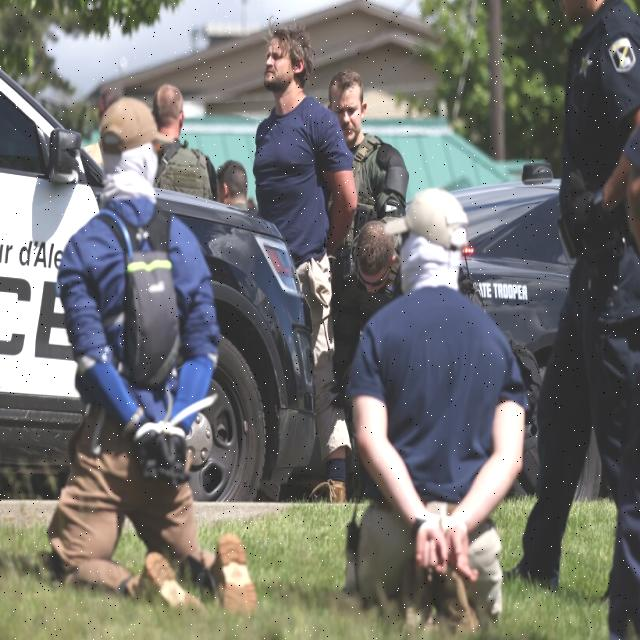police: (503, 0, 640, 640)
